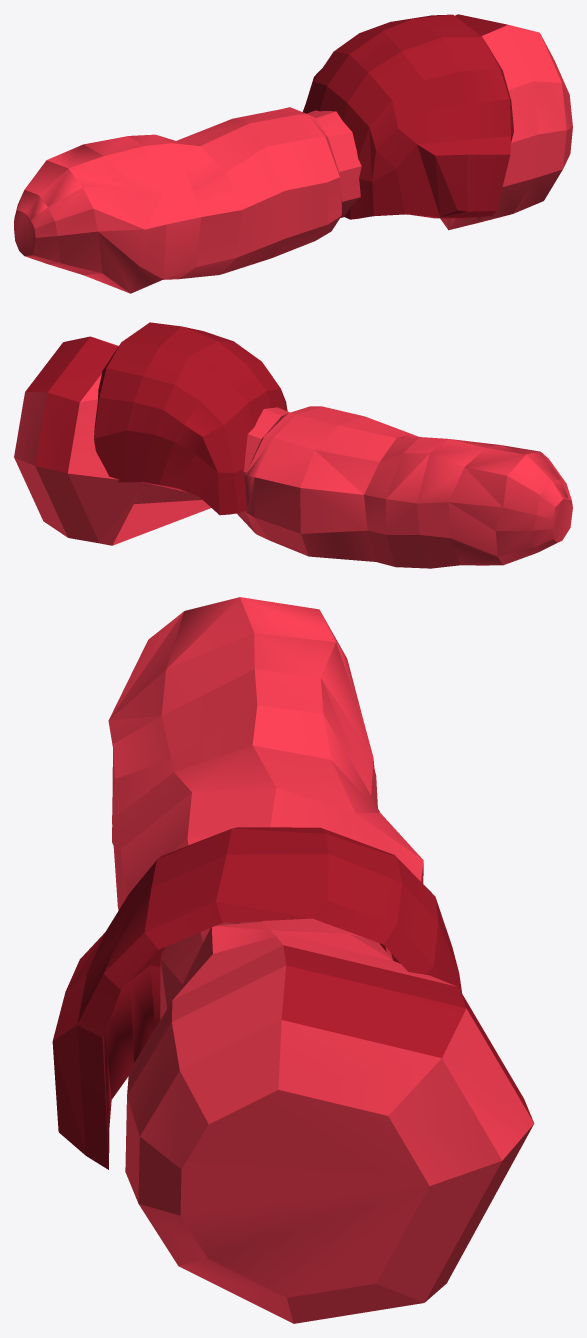
The model's file is left_upper_arm.fbx.
The picture shows the model from 3 angles, top to bottom: view 1: azimuth 30°, elevation 25°; view 2: azimuth 150°, elevation 25°; view 3: azimuth 270°, elevation 25°; orthographic projection. The views are drawn at different scales.
Visible parts, largest first — view 1: left_upper_arm; view 2: left_upper_arm; view 3: left_upper_arm.
Boxes of the visible parts, box(x1,y1,x2,y2) form: left_upper_arm: box(14, 14, 572, 293); left_upper_arm: box(14, 322, 572, 568); left_upper_arm: box(52, 597, 534, 1323).
Bounding box in the file's own units: 0.4844 × 0.1838 × 0.2003.
